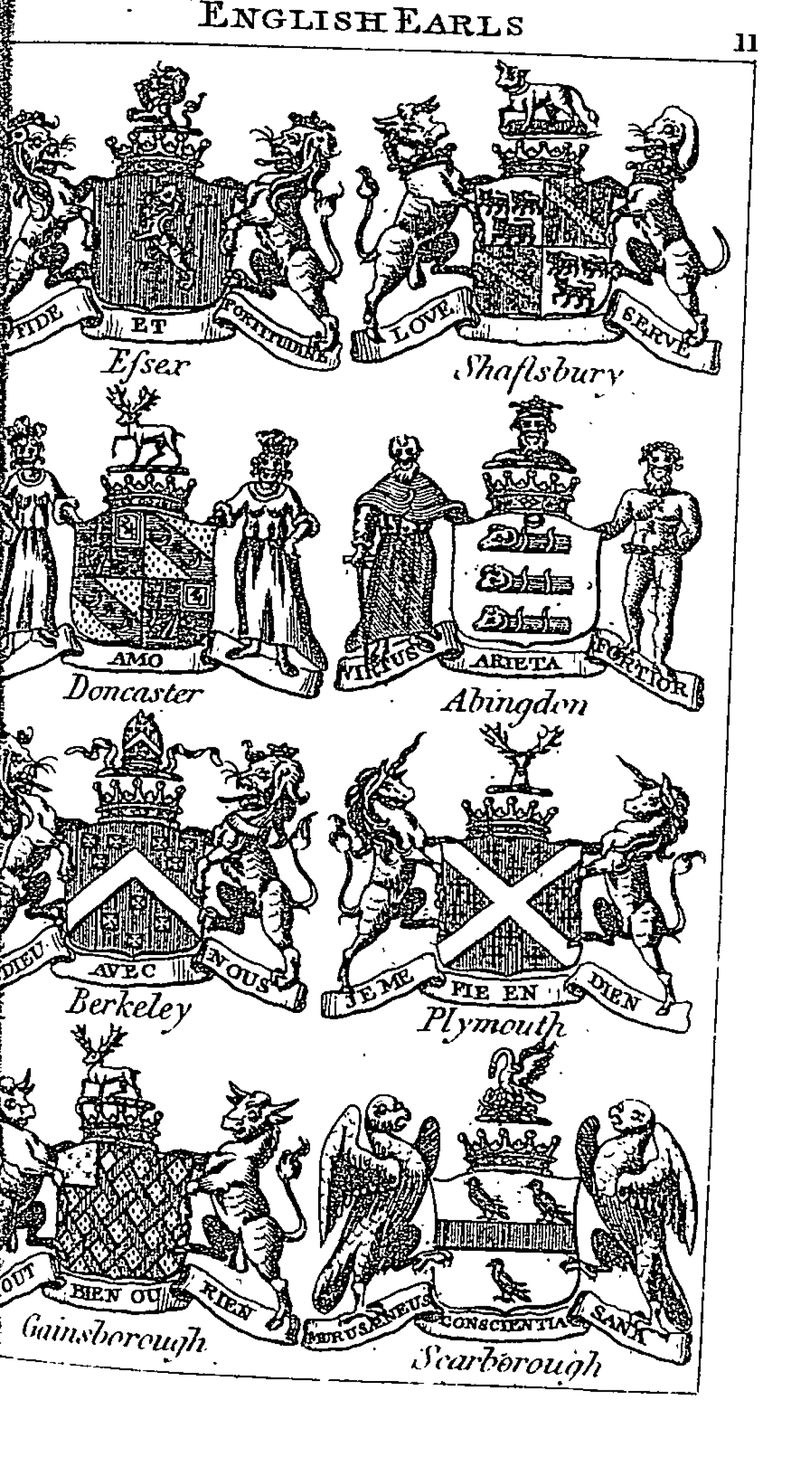coat_of_arms: (302, 1045, 746, 1382), (356, 57, 737, 401), (338, 388, 719, 727), (325, 724, 702, 1055), (1, 52, 349, 388), (10, 379, 323, 725), (5, 710, 319, 1041), (5, 1031, 306, 1370)
